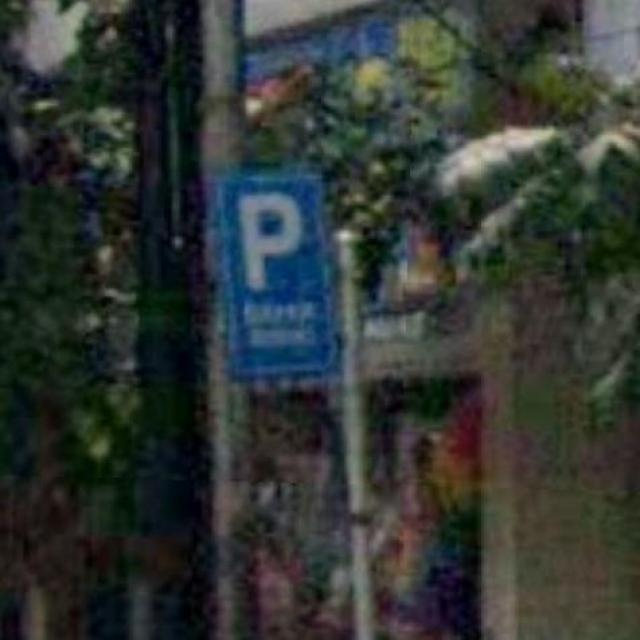traffic sign: (214, 174, 346, 376)
